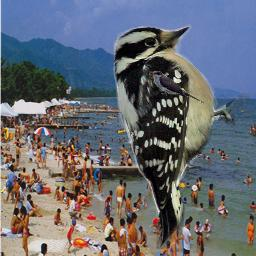Cuckoo: (149, 71, 204, 104)
Woodpecker: (110, 21, 250, 249)
